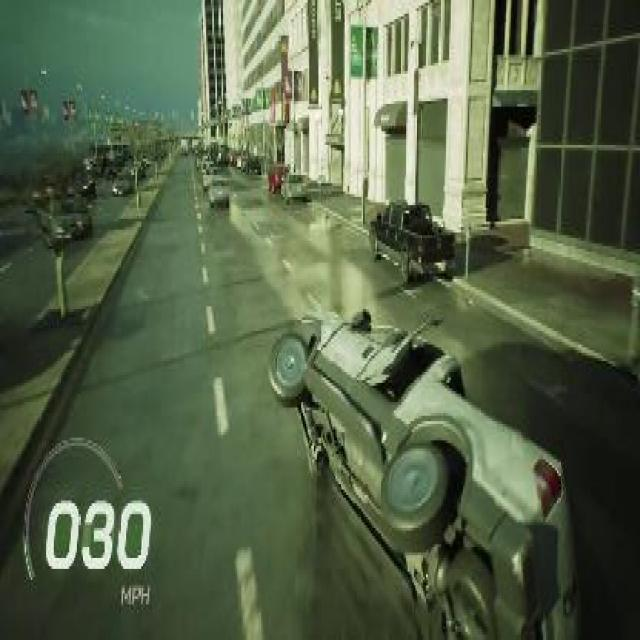accident: (263, 292, 577, 640)
